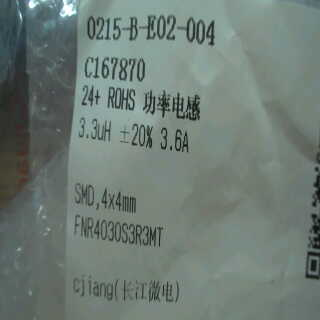3.3uH: (74, 113, 116, 148)
